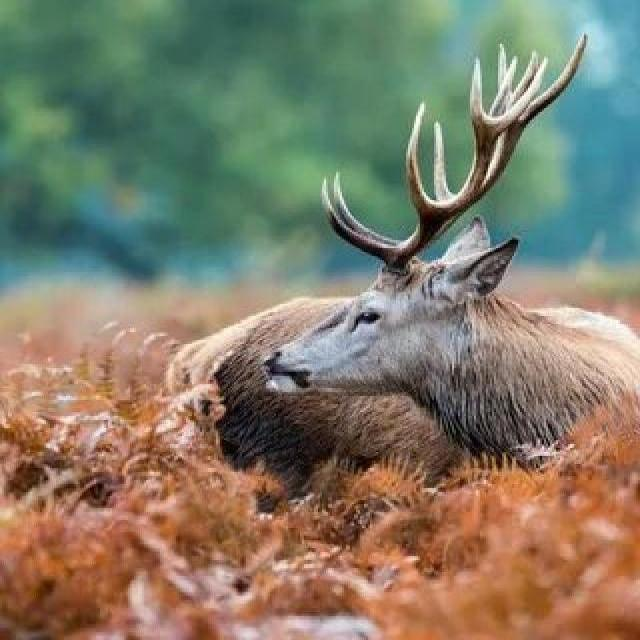deer: (187, 121, 618, 579)
